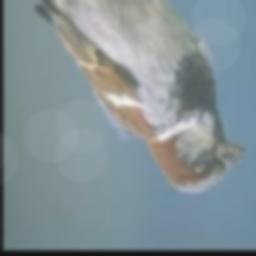Sparrow: (12, 0, 250, 195)
